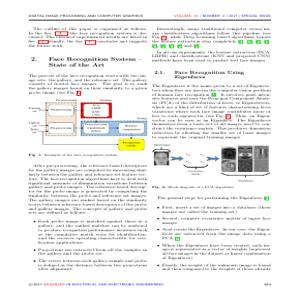diagram: (26, 97, 150, 153), (151, 141, 276, 183)
text: (151, 23, 275, 141), (26, 161, 150, 275), (152, 185, 276, 274), (26, 24, 150, 96)
